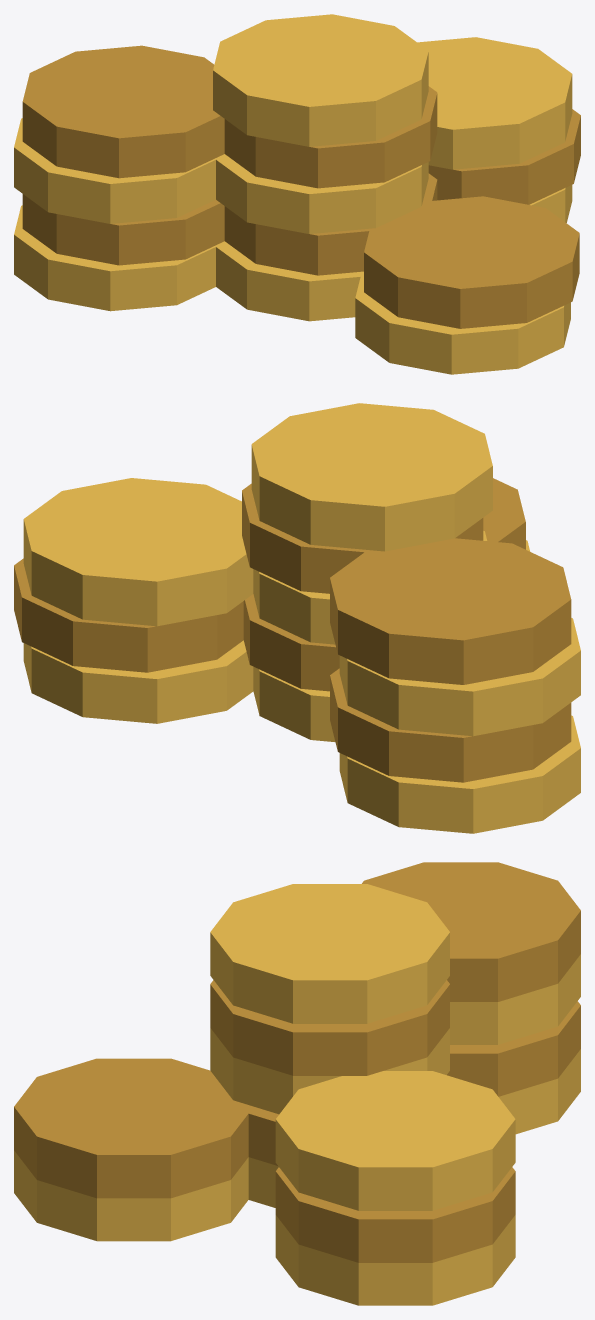
The model's file is PR_Drink_ParaYigini.fbx.
The picture shows the model from 3 angles, top to bottom: view 1: azimuth 30°, elevation 25°; view 2: azimuth 150°, elevation 25°; view 3: azimuth 270°, elevation 25°; orthographic projection. The views are drawn at different scales.
Visible parts, largest first — view 1: PR_Drink_ParaYigini; view 2: PR_Drink_ParaYigini; view 3: PR_Drink_ParaYigini.
Boxes of the visible parts, left/top/right/bottom form: PR_Drink_ParaYigini: left=14, top=14, right=580, bottom=374; PR_Drink_ParaYigini: left=14, top=403, right=580, bottom=833; PR_Drink_ParaYigini: left=14, top=862, right=580, bottom=1305.
Size of the model in its own units: 0.2896 by 0.118 by 0.26.
Materials: 1 (1 with a texture image).
